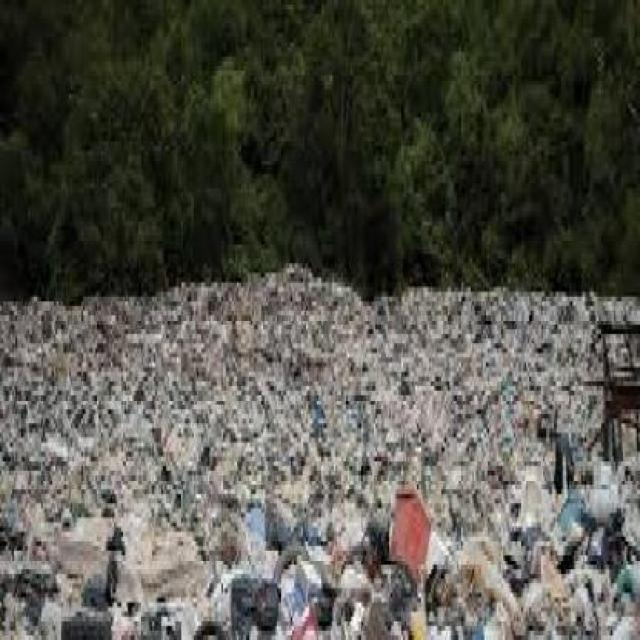garbage: (0, 296, 638, 635)
